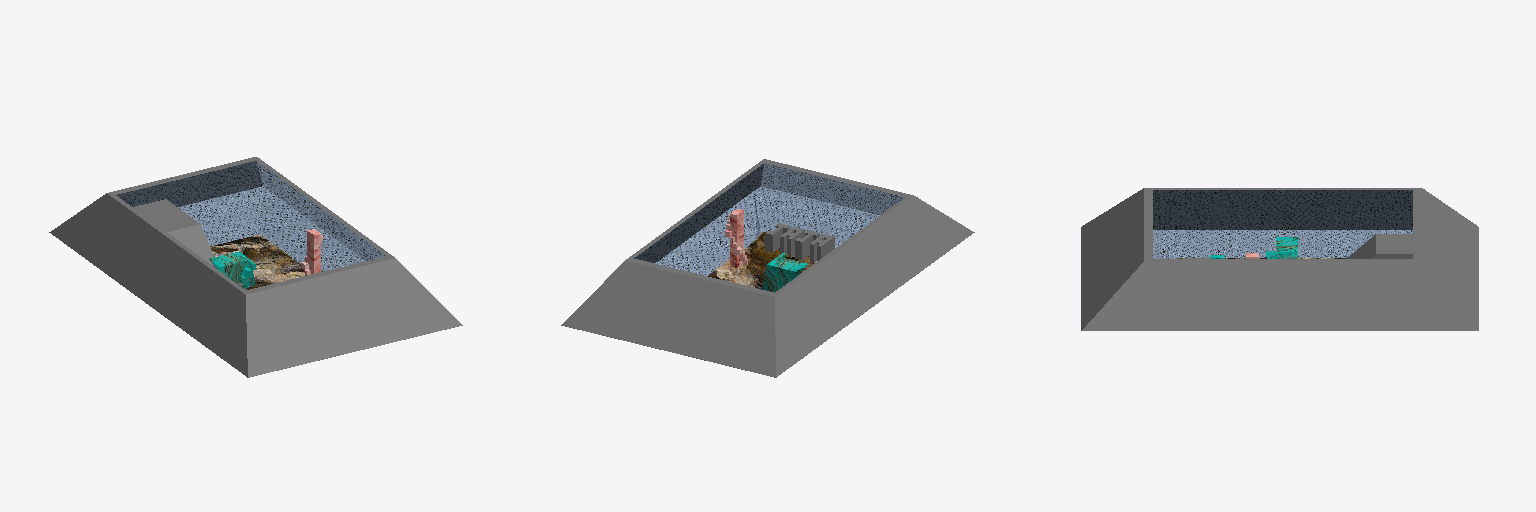
3 views of the same model, side by side, from view 1: azimuth 30°, elevation 25°; view 2: azimuth 150°, elevation 25°; view 3: azimuth 270°, elevation 25° (orthographic).
Parts seen in each view (by area): view 1: Mesh; view 2: Mesh; view 3: Mesh.
Part boxes in pixels (x1,y1,x2,y2): Mesh: (49,157,462,377); Mesh: (561,159,974,377); Mesh: (1081,188,1478,330).
Size of the model in its own units: 66.83 by 17.87 by 107.
Materials: 7 (4 with a texture image).